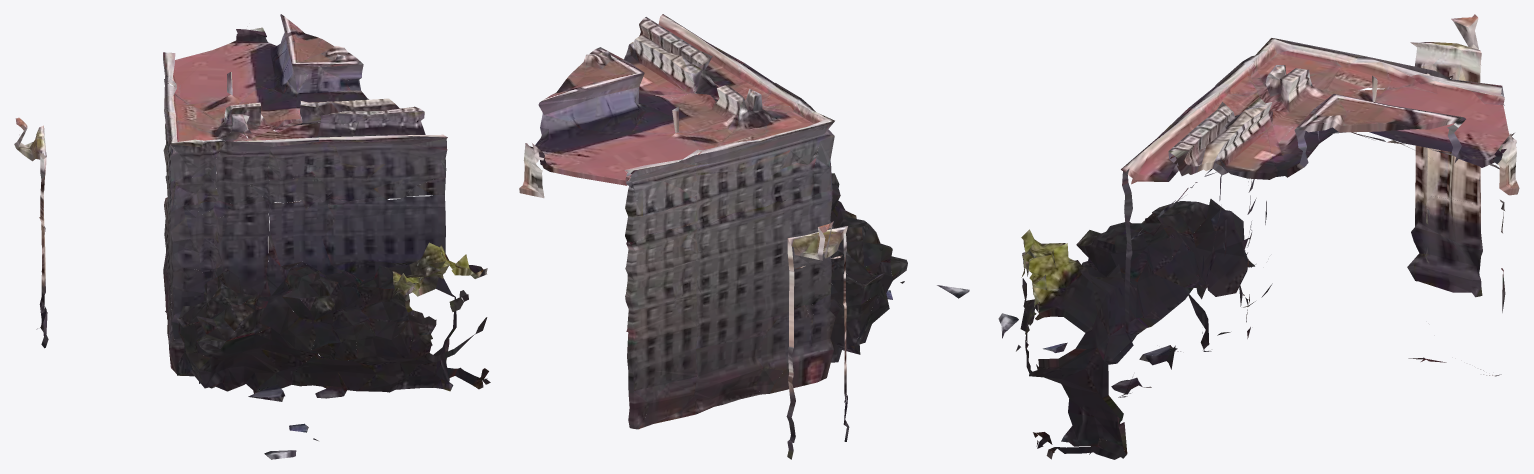
3 views of the same model, side by side, from view 1: azimuth 30°, elevation 25°; view 2: azimuth 150°, elevation 25°; view 3: azimuth 270°, elevation 25° (orthographic). The views are drawn at different scales.
Visible parts, largest first — view 1: Mesh_0; view 2: Mesh_0; view 3: Mesh_0.
Boxes of the visible parts, x1,y1,x2,y2 form: Mesh_0: (14,14,490,459); Mesh_0: (519,14,969,459); Mesh_0: (998,14,1519,459).
Bounding box in the file's own units: 33.6 × 28.77 × 41.09.
2 materials, 2 textured.
